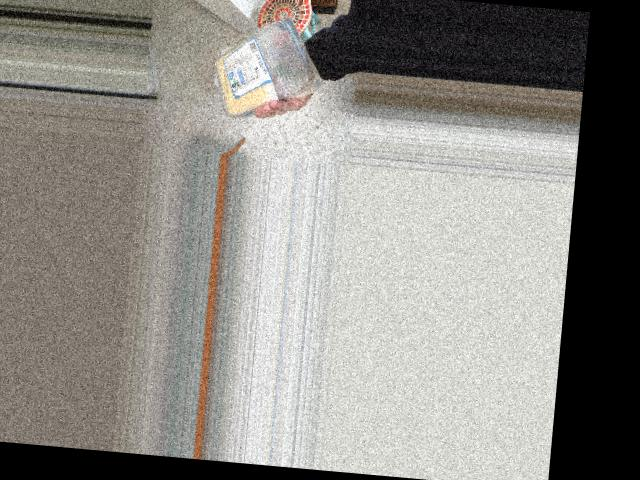cheese: (201, 8, 315, 112)
